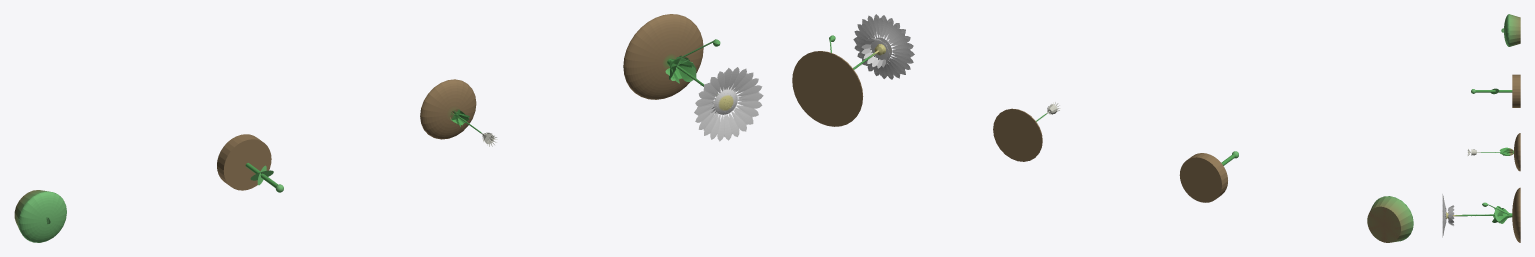
The model's file is daisy.glb.
The picture shows the model from 3 angles, left to right: view 1: azimuth 30°, elevation 25°; view 2: azimuth 150°, elevation 25°; view 3: azimuth 270°, elevation 25°; orthographic projection. The views are drawn at different scales.
Parts seen in each view (by area): view 1: full, stage2_budding, stage1b_young_sprout, stage1_seedling; view 2: full, stage2_budding, stage1b_young_sprout, stage1_seedling; view 3: full, stage1_seedling, stage1b_young_sprout, stage2_budding.
Boxes of the visible parts, box(x1,y1,x2,y2) form: full: box(623, 14, 763, 141); stage2_budding: box(420, 79, 497, 146); stage1b_young_sprout: box(217, 134, 283, 192); stage1_seedling: box(14, 190, 66, 242); full: box(792, 14, 914, 126); stage2_budding: box(993, 102, 1060, 161); stage1b_young_sprout: box(1179, 151, 1238, 202); stage1_seedling: box(1367, 196, 1413, 242); full: box(1442, 187, 1520, 242); stage1_seedling: box(1501, 14, 1520, 46); stage1b_young_sprout: box(1471, 74, 1520, 107); stage2_budding: box(1467, 133, 1520, 171).
Bounding box in the file's own units: 87 × 10 × 14.11.
